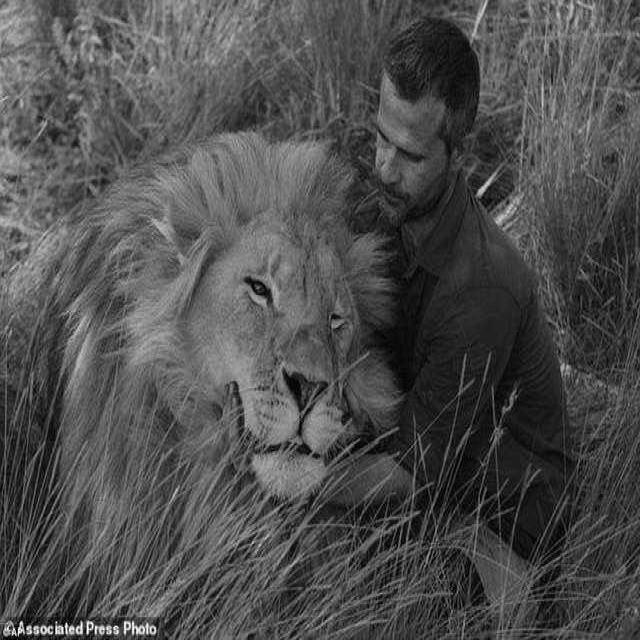Lion: (128, 85, 362, 511)
